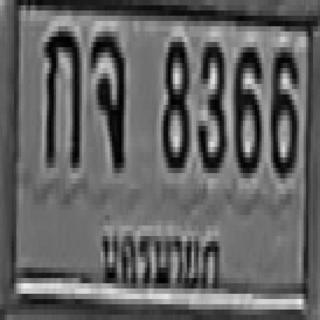A01: (42, 26, 79, 163)
A08: (89, 29, 124, 165)
N03: (196, 37, 224, 168)
N06: (269, 42, 297, 173), (231, 42, 259, 173)
N08: (161, 37, 187, 168)
P27: (95, 217, 226, 305)
